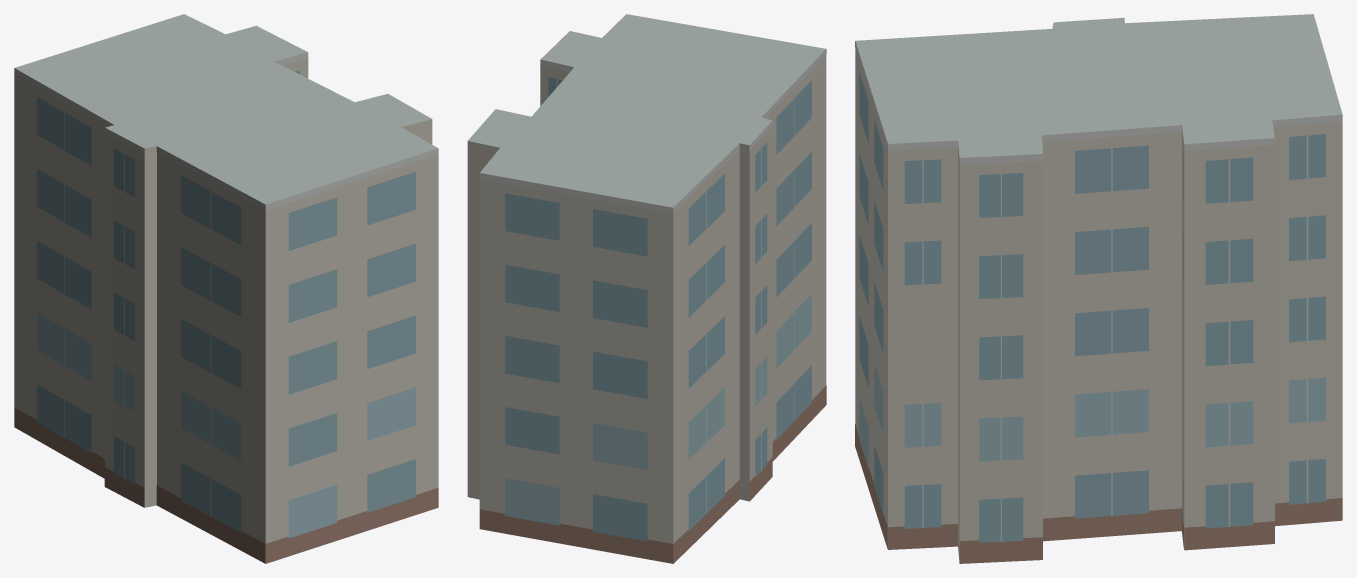
The model's file is survey-upis-32752040.glb.
3 views of the same model, side by side, from view 1: azimuth 30°, elevation 25°; view 2: azimuth 150°, elevation 25°; view 3: azimuth 270°, elevation 25° (orthographic). The views are drawn at different scales.
Parts seen in each view (by area): view 1: survey-upis-32752040.tmp; view 2: survey-upis-32752040.tmp; view 3: survey-upis-32752040.tmp.
Boxes of the visible parts, x1,y1,x2,y2 form: survey-upis-32752040.tmp: (14,14,438,563); survey-upis-32752040.tmp: (467,14,826,563); survey-upis-32752040.tmp: (855,14,1342,563).
Size of the model in its own units: 10.88 by 14.3 by 15.57.
